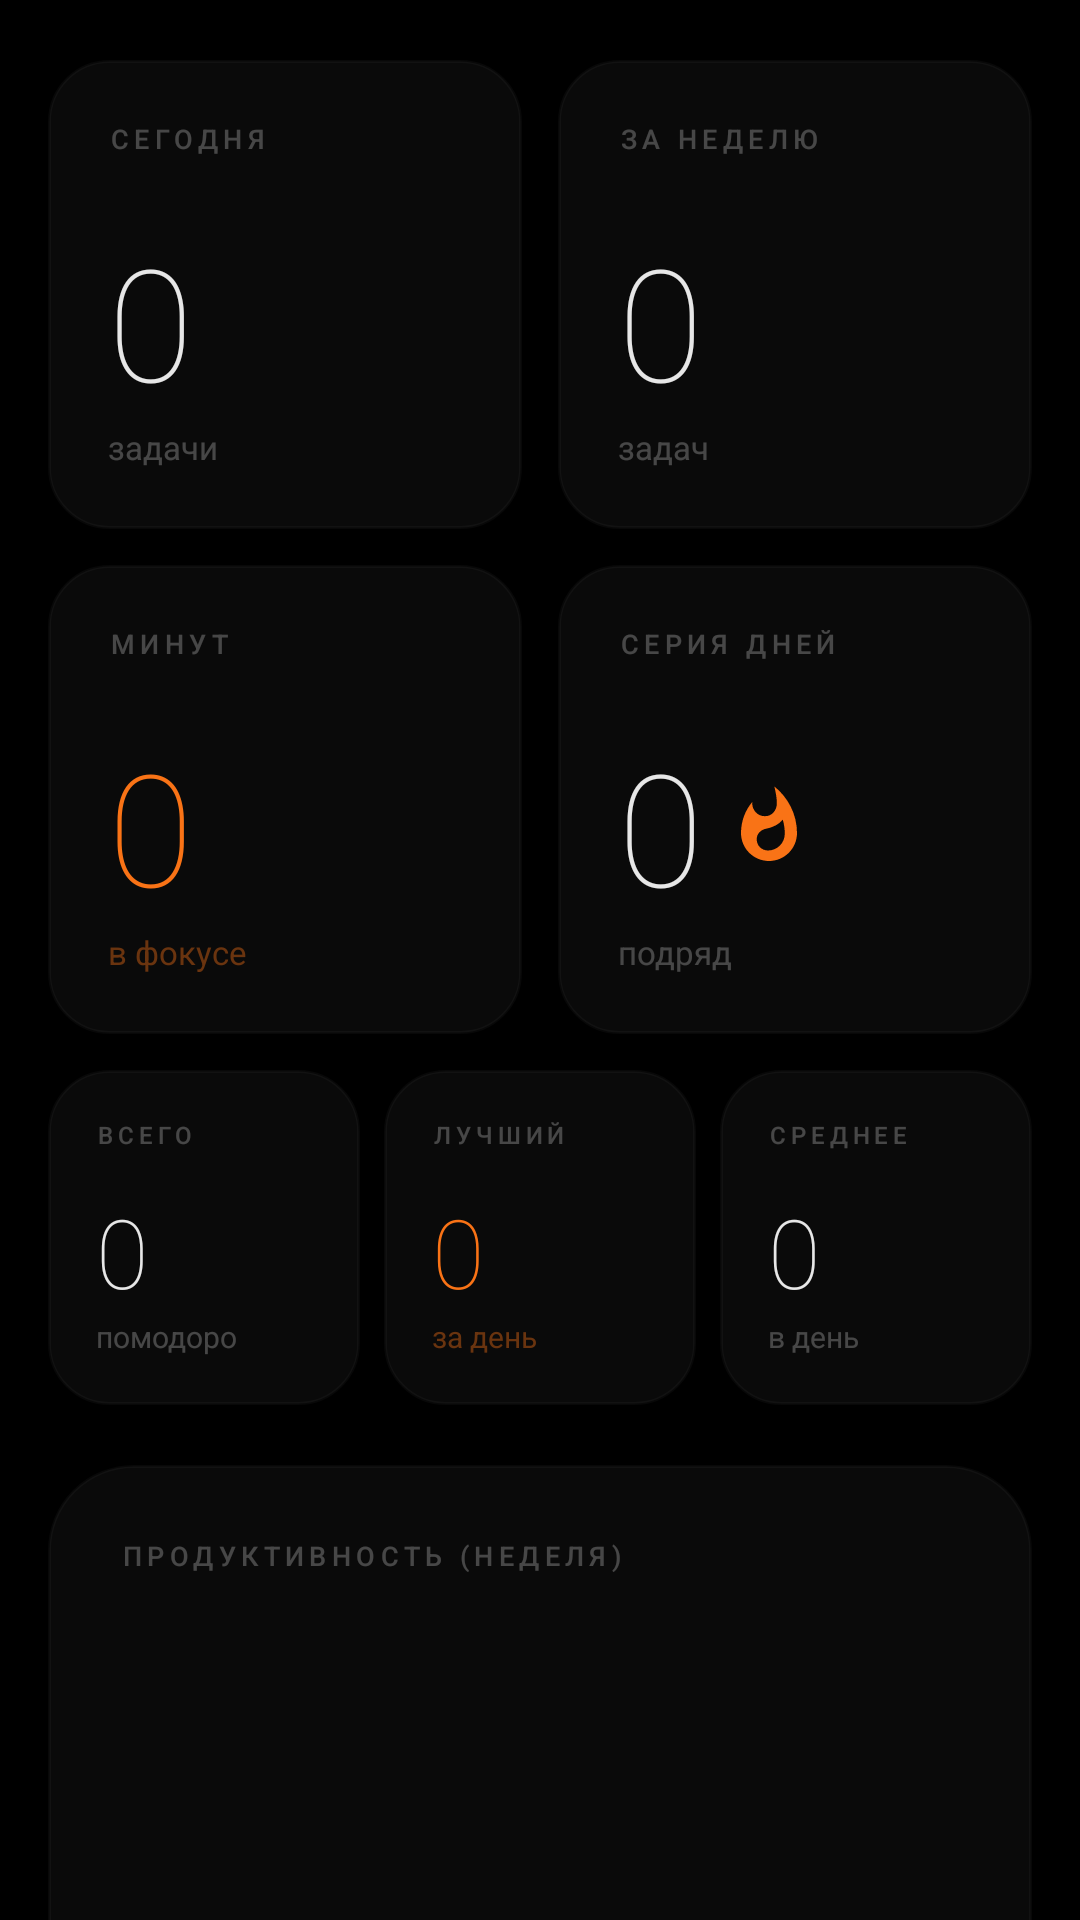

Icon click points for this 1080 × 1920 phone screenshot, format point (x, y):
fire: point (769, 823)
